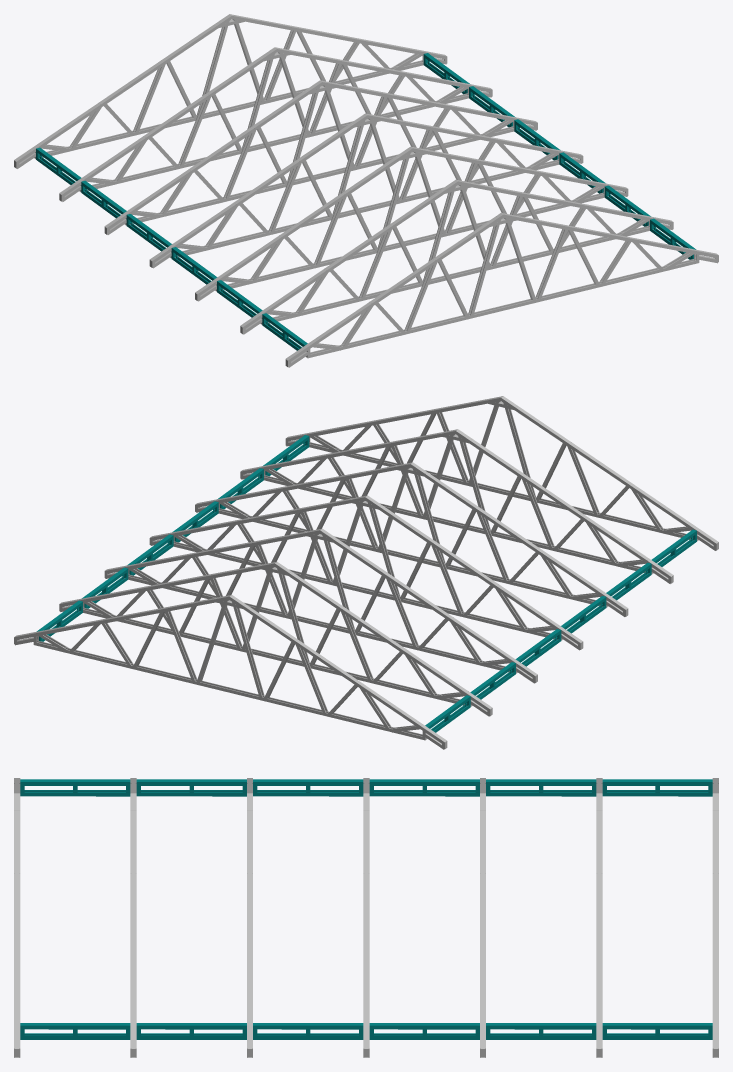
Rendered from estadio-trelica.glb.
The picture shows the model from 3 angles, top to bottom: view 1: azimuth 30°, elevation 25°; view 2: azimuth 150°, elevation 25°; view 3: azimuth 270°, elevation 25°; orthographic projection. The views are drawn at different scales.
Visible parts, largest first — view 1: estadio-trelica; view 2: estadio-trelica; view 3: estadio-trelica.
Part boxes in pixels (x1=…): estadio-trelica: x1=14, y1=14, x2=718, y2=367; estadio-trelica: x1=14, y1=396, x2=718, y2=749; estadio-trelica: x1=14, y1=778, x2=718, y2=1057.
Bounding box in the file's own units: 11.16 × 2.5 × 12.28.
